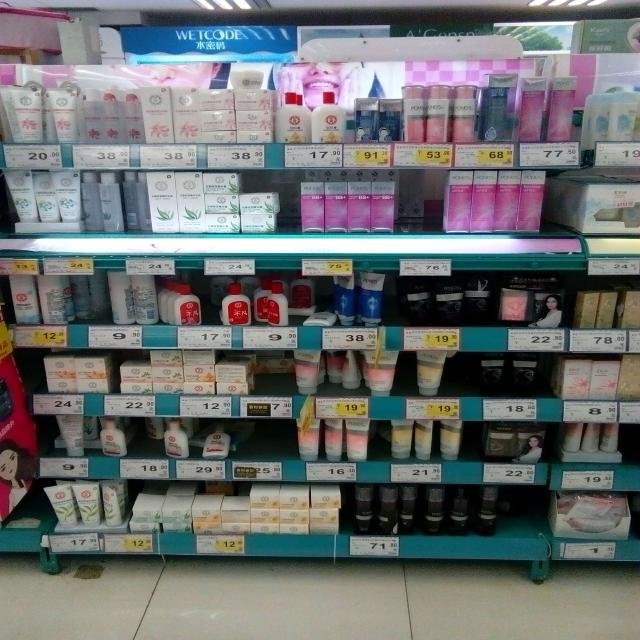empty: (542, 168, 579, 244), (494, 481, 544, 536), (237, 418, 298, 462), (270, 175, 303, 232), (247, 355, 293, 394)
